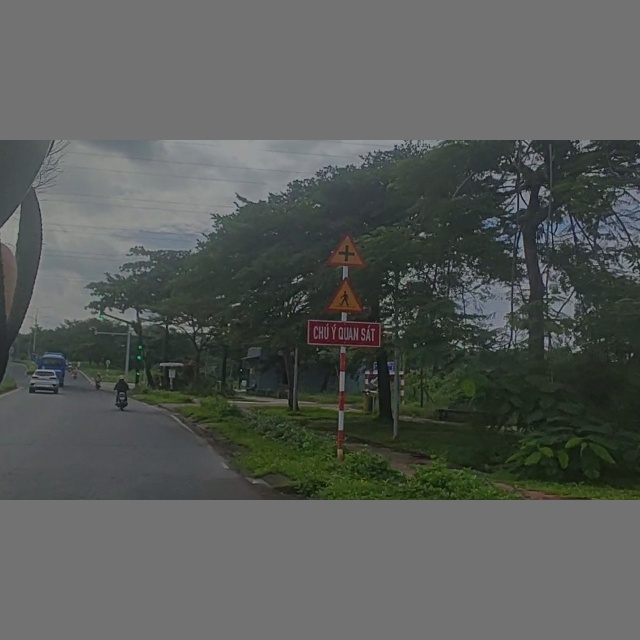W.205a: (326, 231, 371, 265)
W.224: (324, 276, 373, 311)
